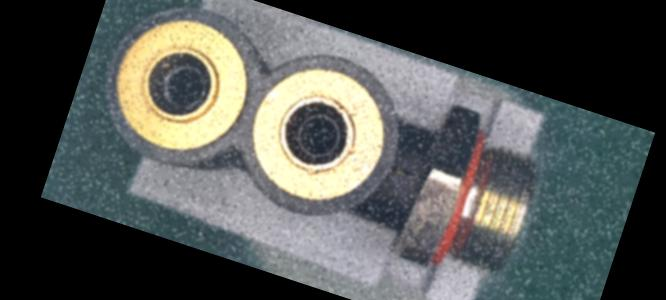craze: (387, 161, 428, 185)
